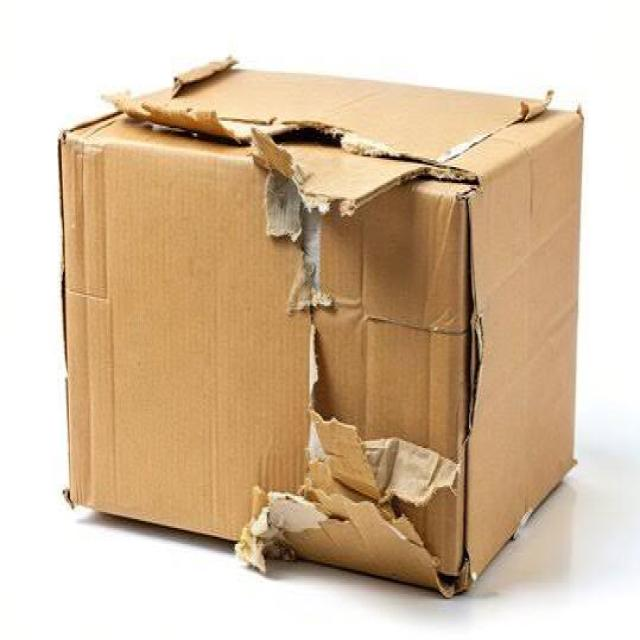carton_box: (41, 43, 612, 633)
package_damage: (244, 95, 524, 626), (54, 42, 479, 214)
